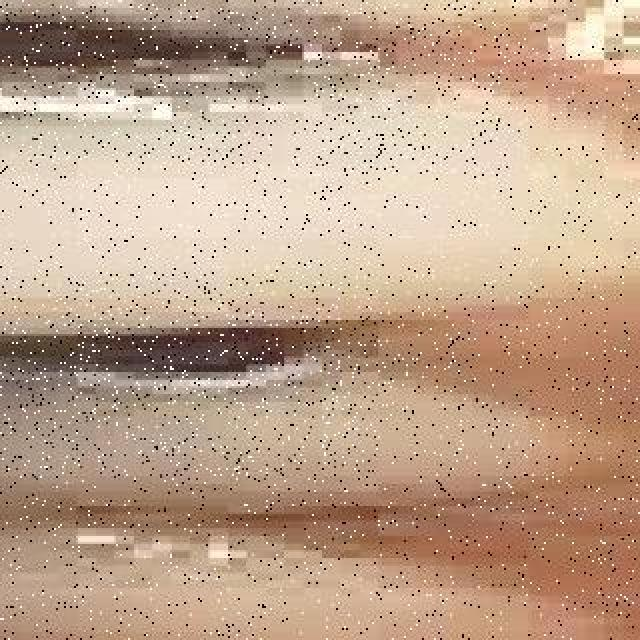cavities: (0, 280, 338, 454), (0, 0, 376, 156)
